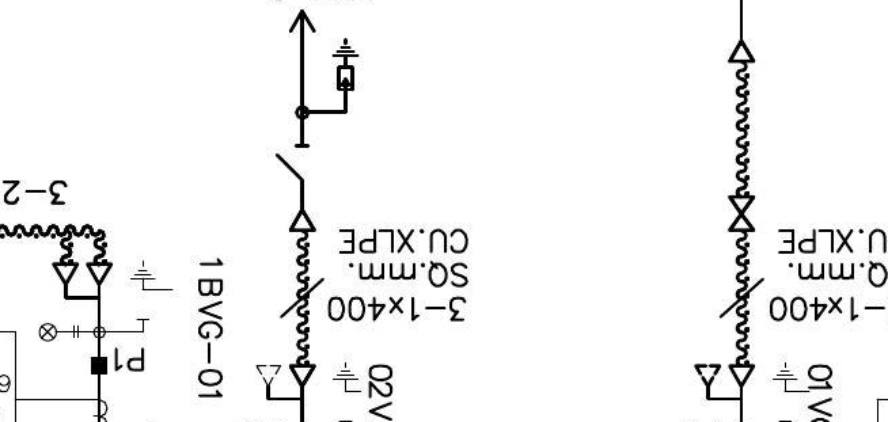22_ds_la_out: (275, 8, 360, 182)
22_gs: (128, 261, 174, 323)
22_ll: (38, 322, 80, 342)
terminator_double: (50, 261, 114, 301)
terminator_single: (287, 208, 318, 234), (726, 40, 756, 65)
terminator_splicing_kits: (727, 195, 756, 233)
terminator_w_future: (253, 362, 317, 402), (693, 363, 757, 402)
